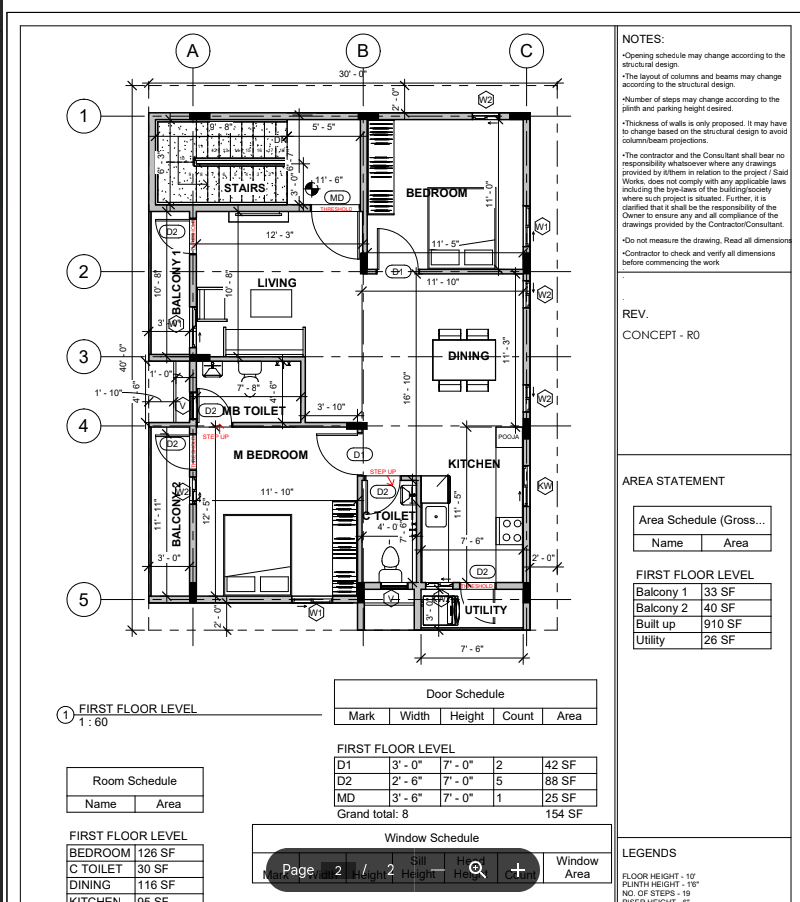door: (309, 208, 362, 261), (314, 430, 361, 478), (375, 224, 421, 273), (153, 431, 195, 473), (194, 384, 235, 427), (153, 216, 195, 256), (458, 584, 497, 626), (364, 477, 402, 517)
